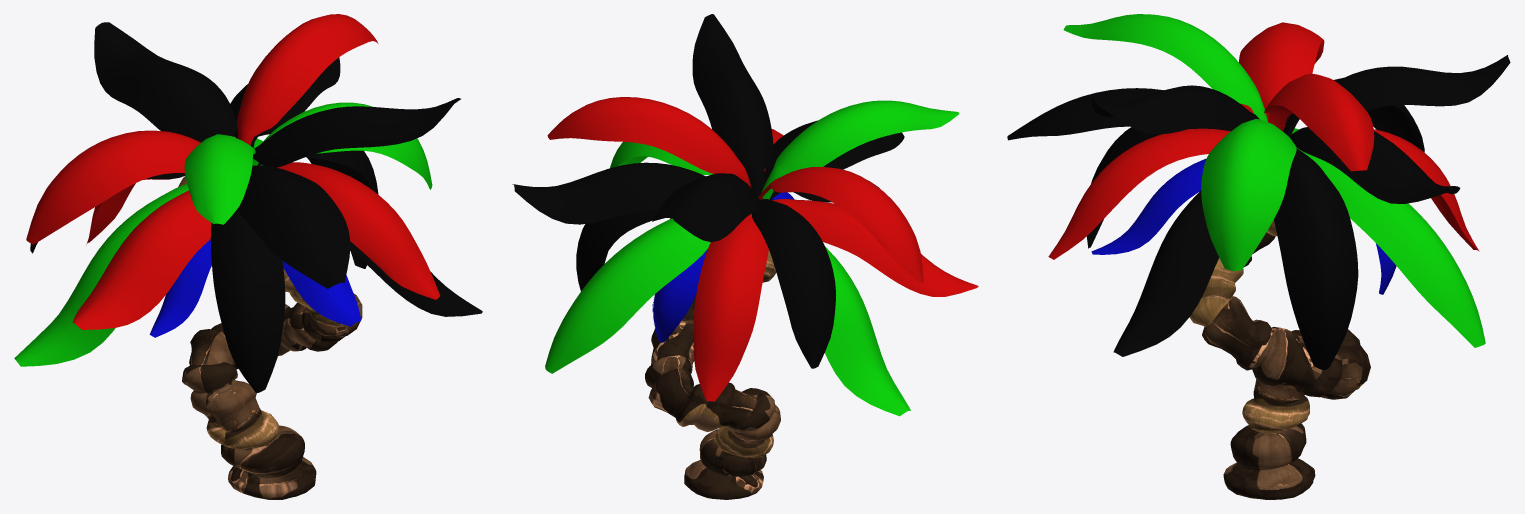
The model's file is Coconut_Tree_04.fbx.
3 views of the same model, side by side, from view 1: azimuth 30°, elevation 25°; view 2: azimuth 150°, elevation 25°; view 3: azimuth 270°, elevation 25° (orthographic). The views are drawn at different scales.
Visible parts, largest first — view 1: Coconut_Leafs_04_LOD0, Coconut_Trunk_04_LOD0; view 2: Coconut_Leafs_04_LOD0, Coconut_Trunk_04_LOD0; view 3: Coconut_Leafs_04_LOD0, Coconut_Trunk_04_LOD0.
Boxes of the visible parts, x1,y1,x2,y2 form: Coconut_Leafs_04_LOD0: [14, 14, 482, 392]; Coconut_Trunk_04_LOD0: [178, 176, 362, 499]; Coconut_Leafs_04_LOD0: [512, 14, 978, 416]; Coconut_Trunk_04_LOD0: [645, 250, 780, 499]; Coconut_Leafs_04_LOD0: [1007, 14, 1510, 370]; Coconut_Trunk_04_LOD0: [1189, 219, 1370, 499].
Size of what is drawn, in the model's own units: 3.83 by 4.07 by 4.21.
